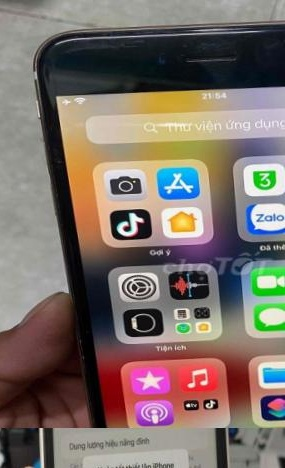physical_damage: (8, 9, 285, 94)
scratch: (36, 115, 73, 236)
